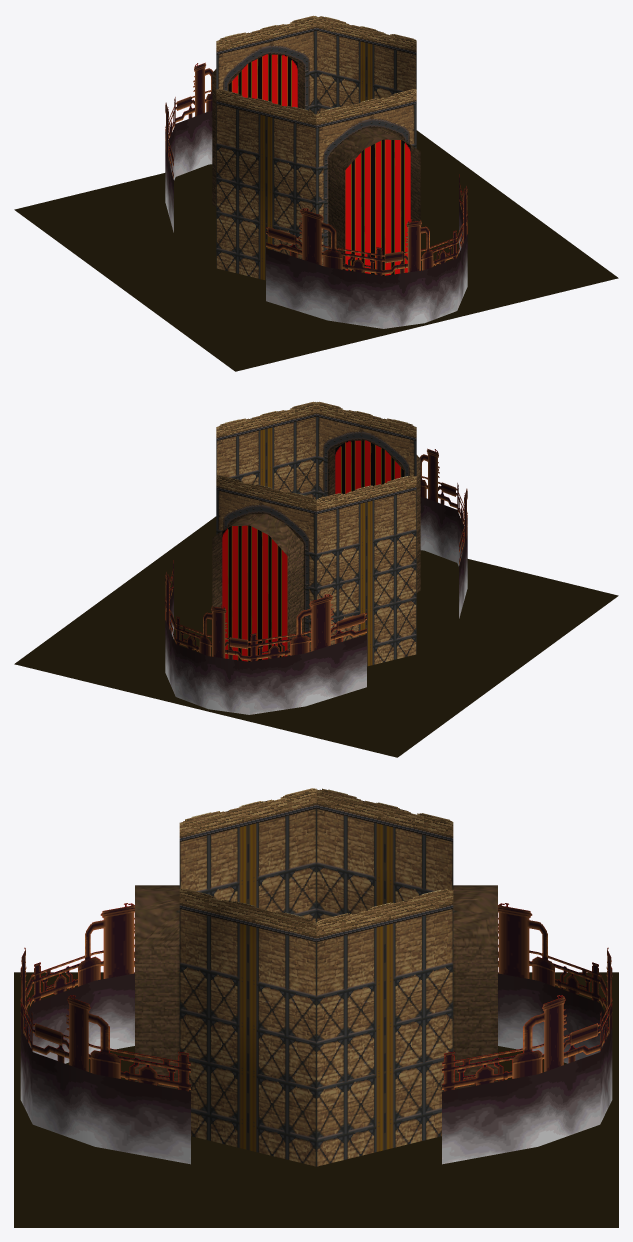
File: Machine labyriny boss 2.obj
3 views of the same model, one above another, from view 1: azimuth 30°, elevation 25°; view 2: azimuth 150°, elevation 25°; view 3: azimuth 270°, elevation 25° (orthographic). The views are drawn at different scales.
Parts seen in each view (by area): view 1: polygon0, polygon5, polygon3, polygon7, polygon1, polygon4, polygon2; view 2: polygon0, polygon5, polygon3, polygon7, polygon1, polygon4, polygon2; view 3: polygon5, polygon0, polygon3, polygon4, polygon7, polygon2.
Boxes of the visible parts, x1,y1,x2,y2 form: polygon0: (14,130,618,371); polygon5: (216,31,416,280); polygon3: (165,111,467,328); polygon7: (212,31,420,269); polygon1: (228,54,410,275); polygon4: (165,62,467,275); polygon2: (216,15,416,128); polygon0: (14,516,618,757); polygon5: (216,417,416,666); polygon3: (165,497,467,714); polygon7: (212,417,420,655); polygon1: (222,440,404,661); polygon4: (165,448,467,661); polygon2: (216,401,416,514); polygon5: (179,809,453,1166); polygon0: (14,972,618,1227); polygon3: (20,973,612,1164); polygon4: (20,903,612,1091); polygon7: (135,885,497,1089); polygon2: (179,788,453,942).
Size of the model in its own units: 14.06 by 6.92 by 14.06.
8 materials, 8 textured.
